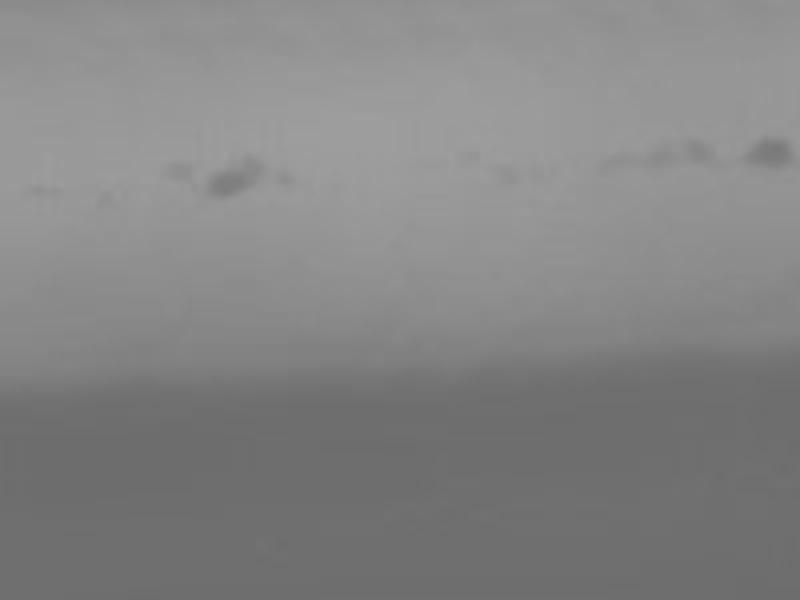defect: (214, 154, 259, 199), (748, 137, 793, 168), (689, 137, 716, 165), (93, 190, 125, 213), (26, 181, 64, 200), (162, 161, 192, 182), (650, 143, 675, 168), (498, 164, 522, 190), (278, 171, 301, 188)
